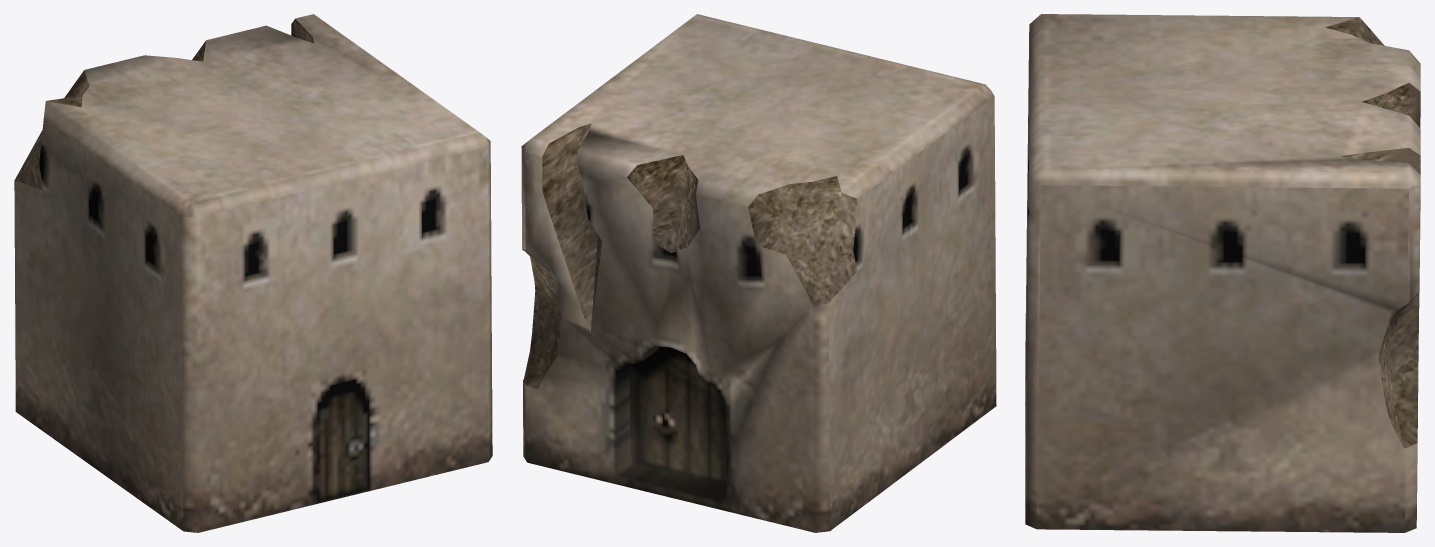
Rendered from stbuho58.dae.
3 renders of one model, left to right at view 1: azimuth 30°, elevation 25°; view 2: azimuth 150°, elevation 25°; view 3: azimuth 270°, elevation 25°, orthographic. The views are drawn at different scales.
Parts seen in each view (by area): view 1: box1; view 2: box1; view 3: box1.
Boxes of the visible parts, bbox=[...] form: box1: bbox=[14, 14, 492, 532]; box1: bbox=[521, 14, 996, 532]; box1: bbox=[1025, 14, 1420, 532].
Bounding box in the file's own units: 2.6 × 2.63 × 2.63.
1 material, 1 textured.
